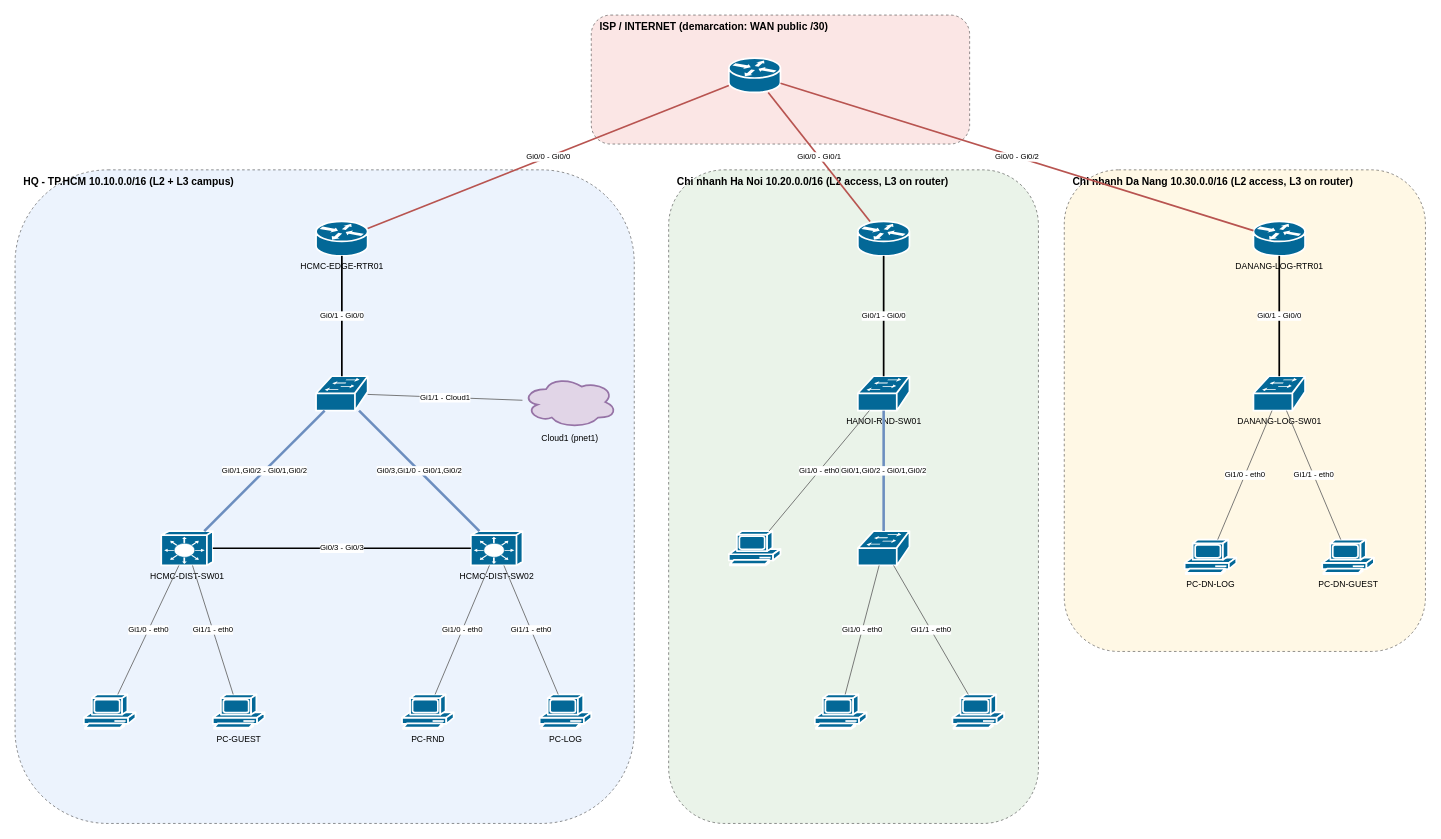
Image size: 1441x839. Some labels were removed from this diagram. The centre of each missing label's shape, as x and y in pixels:
HANOI-RND-RTR01: pixel 883 238
HANOI-RND-SW02: pixel 883 548
HCMC-CORE-SW01: pixel 341 393
ISP-CLOUD-RTR01: pixel 754 75
PC-EXEC: pixel 109 711
PC-HN-EXEC: pixel 754 548
PC-HN-GUEST: pixel 977 711
PC-HN-RND: pixel 840 711
